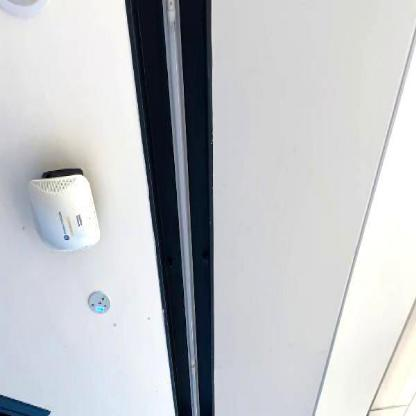light_off: (156, 2, 206, 415)
